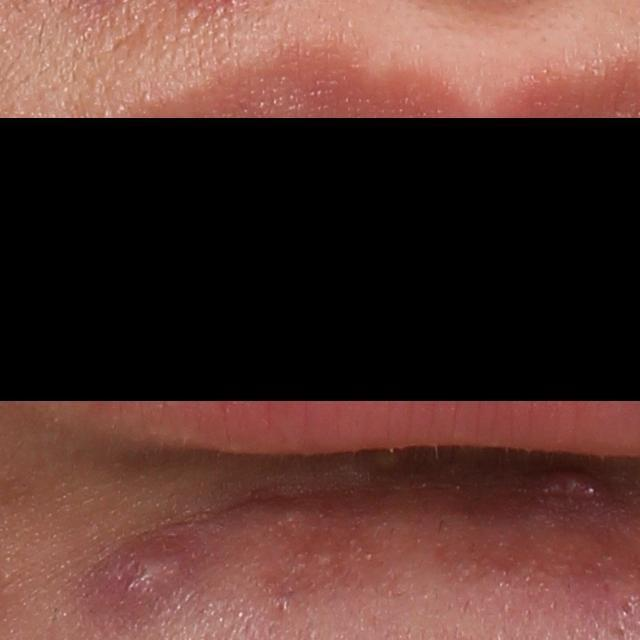papule: (81, 529, 211, 622), (519, 463, 627, 516)
